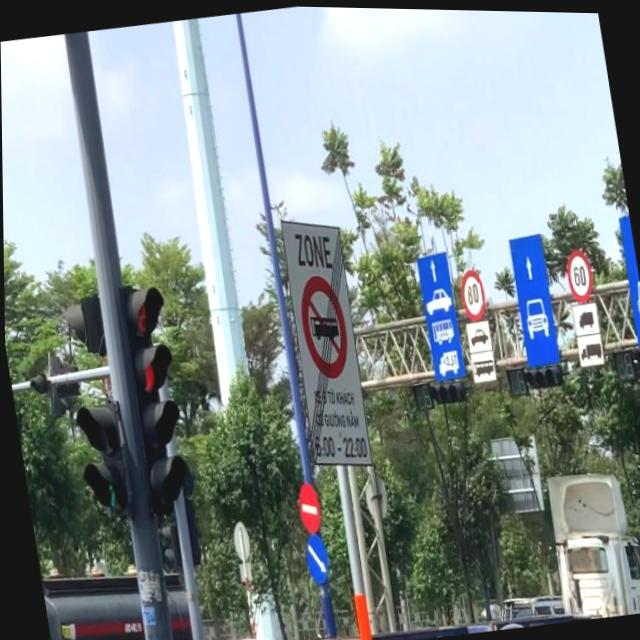Cam di nguoc chieu: (294, 478, 323, 535)
Toc do toi da cho phep: (458, 266, 489, 319), (563, 247, 594, 299)
Vong chuong ngai vat sang phai: (301, 528, 331, 587)
